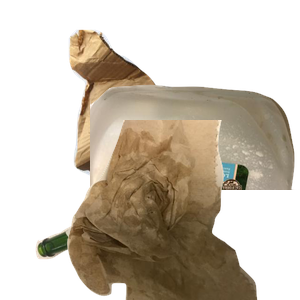cardboard: (66, 27, 242, 197)
glass: (33, 158, 246, 300)
plastic: (90, 82, 300, 262)
trash: (65, 120, 300, 300)
